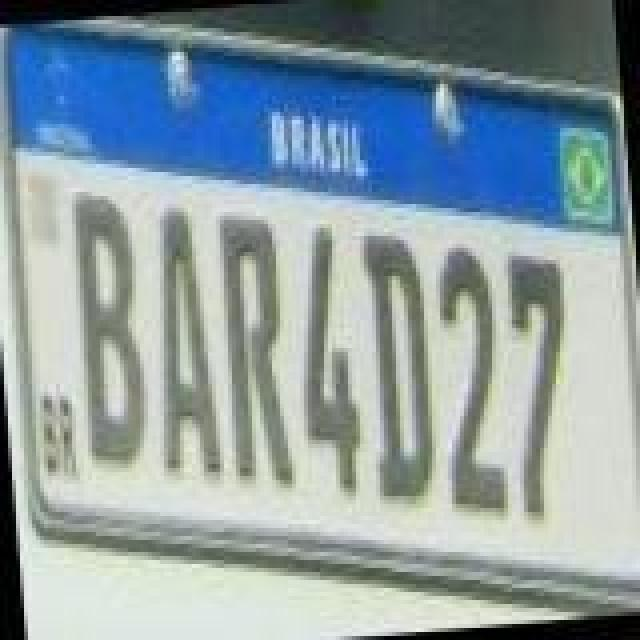2: (430, 240, 514, 520)
4: (288, 220, 368, 500)
7: (502, 244, 586, 516)
A: (142, 200, 226, 480)
B: (68, 182, 156, 474)
D: (356, 224, 444, 504)
R: (212, 202, 300, 494)
